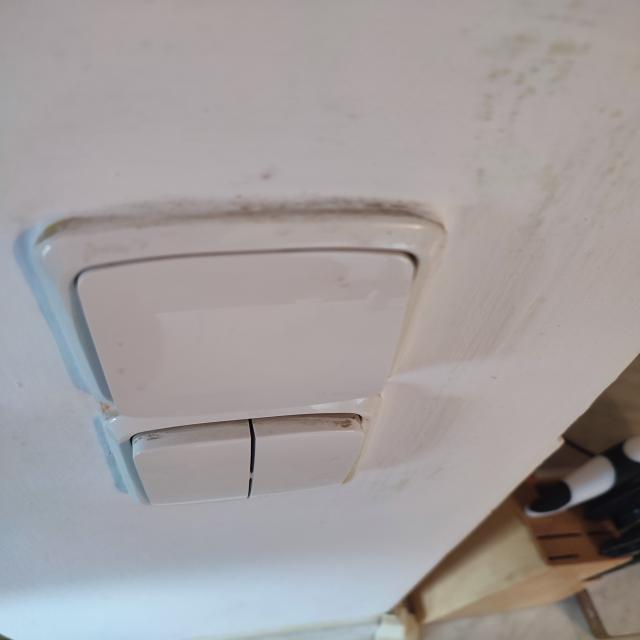house switch: (30, 198, 449, 415)
house switch double: (105, 398, 381, 509)
